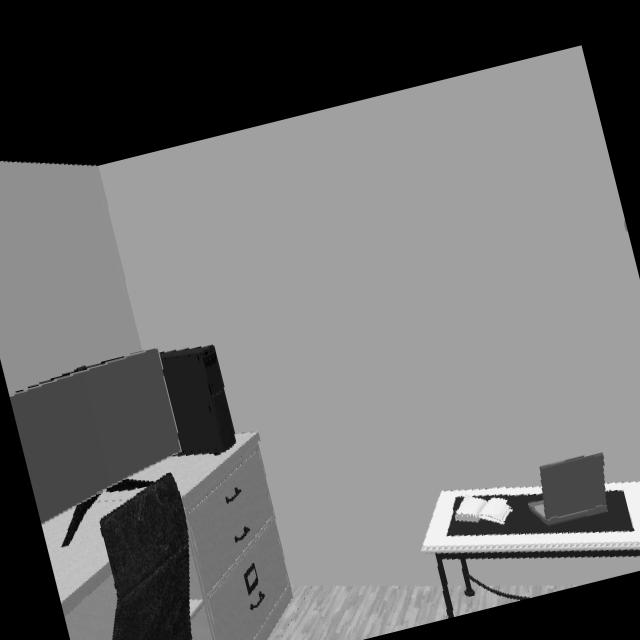book: (455, 495, 511, 523)
cabinet: (181, 433, 293, 640)
chair: (101, 473, 193, 640)
laptop: (527, 453, 608, 526)
monitor: (10, 350, 177, 545)
table: (421, 470, 640, 617), (42, 490, 136, 602), (132, 433, 258, 513)
